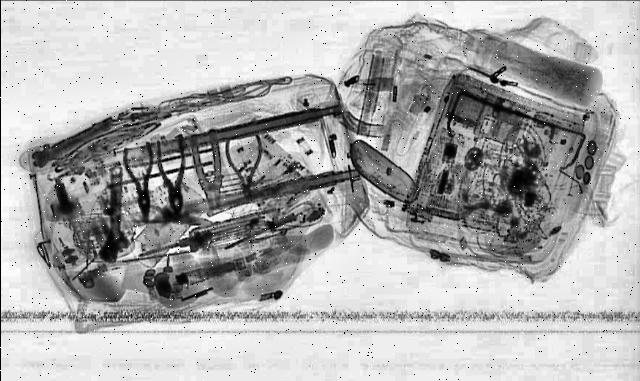Pliers: (183, 130, 233, 211), (120, 142, 162, 223), (221, 134, 267, 202), (156, 134, 190, 215)
Wrench: (96, 166, 130, 264)
